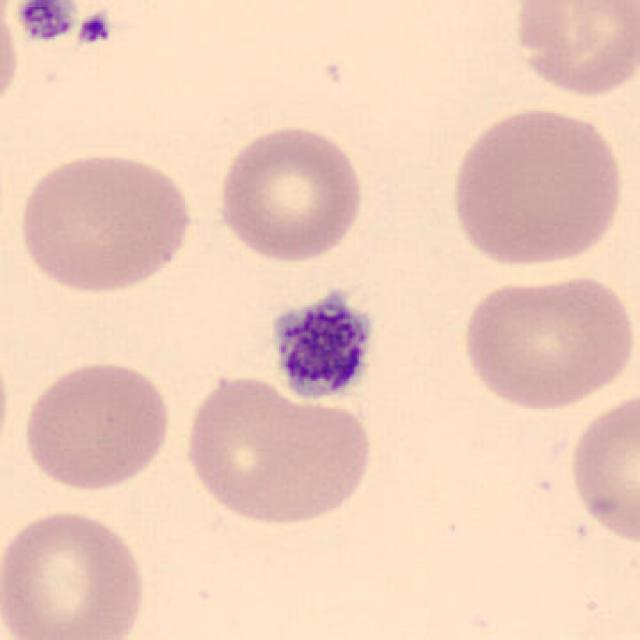Platelets: (265, 286, 379, 407), (11, 0, 80, 46), (74, 8, 114, 48)
RBC: (178, 370, 377, 531), (444, 102, 628, 272), (12, 146, 198, 296), (457, 268, 636, 414), (213, 120, 368, 266), (18, 356, 176, 496), (0, 504, 151, 640), (504, 0, 638, 100), (564, 386, 638, 547), (0, 0, 25, 123), (0, 337, 14, 474)
